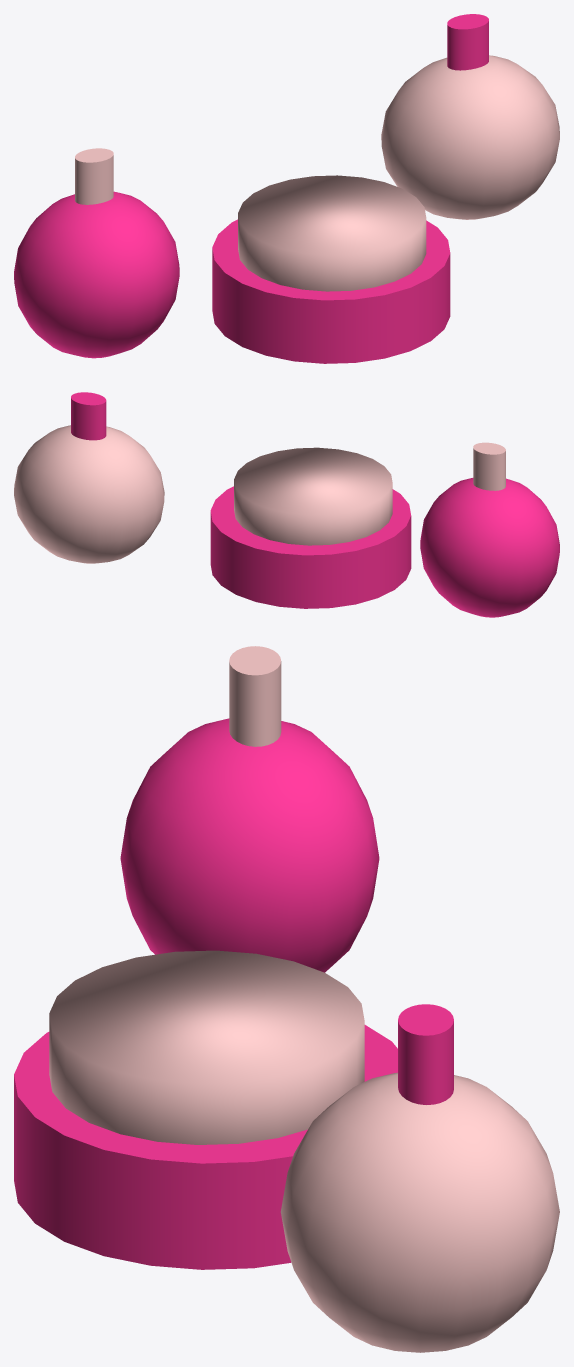
Rendered from cosmetic.obj.
The picture shows the model from 3 angles, top to bottom: view 1: azimuth 30°, elevation 25°; view 2: azimuth 150°, elevation 25°; view 3: azimuth 270°, elevation 25°; orthographic projection. The views are drawn at different scales.
Visible parts, largest first — view 1: Mesh1 SimpleSphere02_1 Group1 Model, Mesh3 SimpleSphere02_2 Group2 Model, Mesh6 Model, Mesh5 Group3 Model, Mesh2 Group1 Model, Mesh4 Group2 Model; view 2: Mesh1 SimpleSphere02_1 Group1 Model, Mesh3 SimpleSphere02_2 Group2 Model, Mesh6 Model, Mesh5 Group3 Model, Mesh2 Group1 Model, Mesh4 Group2 Model; view 3: Mesh1 SimpleSphere02_1 Group1 Model, Mesh5 Group3 Model, Mesh3 SimpleSphere02_2 Group2 Model, Mesh6 Model, Mesh2 Group1 Model, Mesh4 Group2 Model.
Boxes of the visible parts, box(x1,y1,x2,y2) form: Mesh1 SimpleSphere02_1 Group1 Model: box(381, 55, 559, 219); Mesh3 SimpleSphere02_2 Group2 Model: box(14, 191, 179, 358); Mesh6 Model: box(212, 219, 450, 363); Mesh5 Group3 Model: box(238, 175, 426, 291); Mesh2 Group1 Model: box(447, 14, 488, 70); Mesh4 Group2 Model: box(75, 148, 113, 204); Mesh1 SimpleSphere02_1 Group1 Model: box(14, 425, 164, 563); Mesh3 SimpleSphere02_2 Group2 Model: box(420, 478, 559, 617); Mesh6 Model: box(210, 486, 411, 608); Mesh5 Group3 Model: box(234, 447, 392, 545); Mesh2 Group1 Model: box(71, 392, 106, 440); Mesh4 Group2 Model: box(473, 442, 505, 490); Mesh1 SimpleSphere02_1 Group1 Model: box(280, 1072, 559, 1352); Mesh5 Group3 Model: box(49, 950, 364, 1144); Mesh3 SimpleSphere02_2 Group2 Model: box(120, 718, 379, 972); Mesh6 Model: box(14, 1025, 397, 1269); Mesh2 Group1 Model: box(398, 1004, 453, 1104); Mesh4 Group2 Model: box(229, 646, 281, 746).
Size of the model in its own units: 1311 by 441 by 639.
